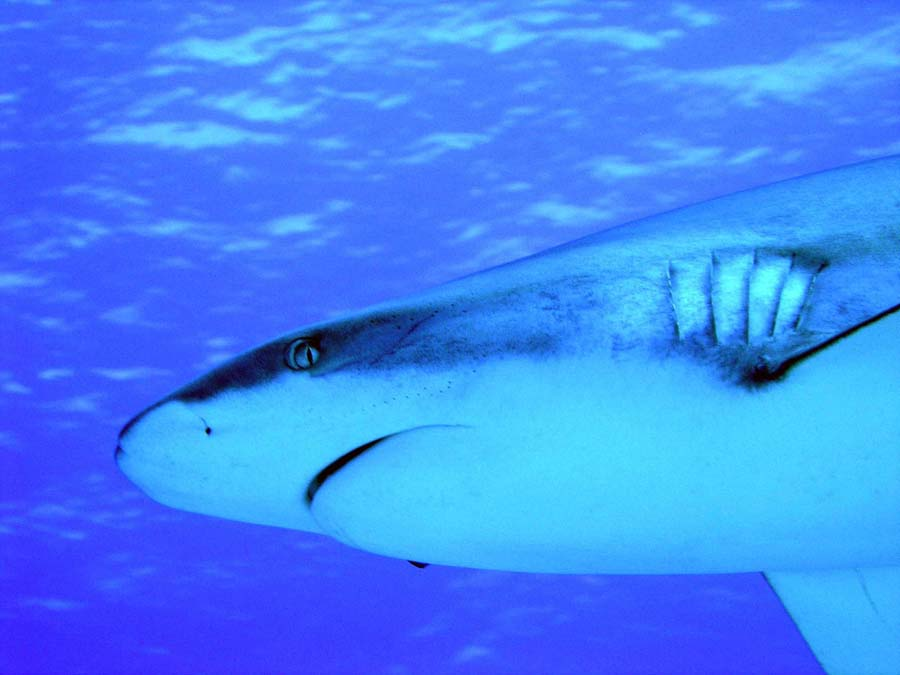Carcharhinus_amblyrhynchos: (106, 143, 900, 663)
